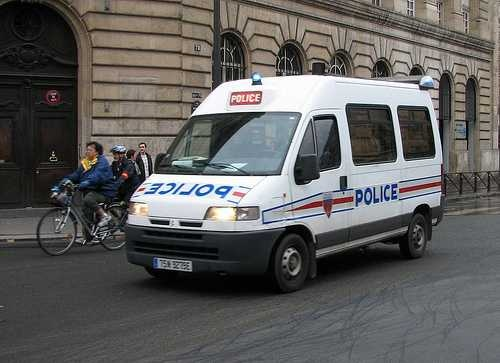Police Van: (109, 62, 457, 296)
